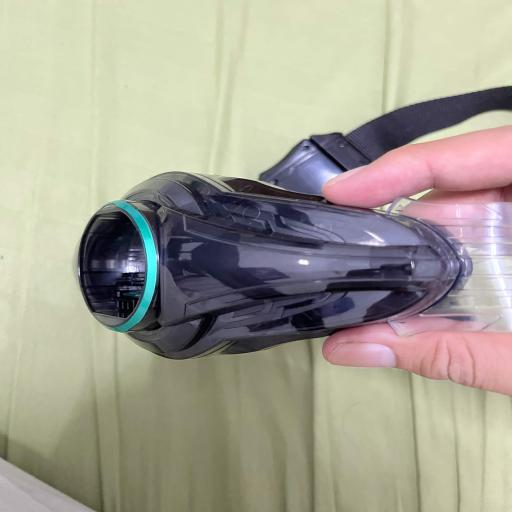zeztzdriver: (78, 172, 474, 360), (259, 87, 512, 196), (386, 198, 512, 336)
